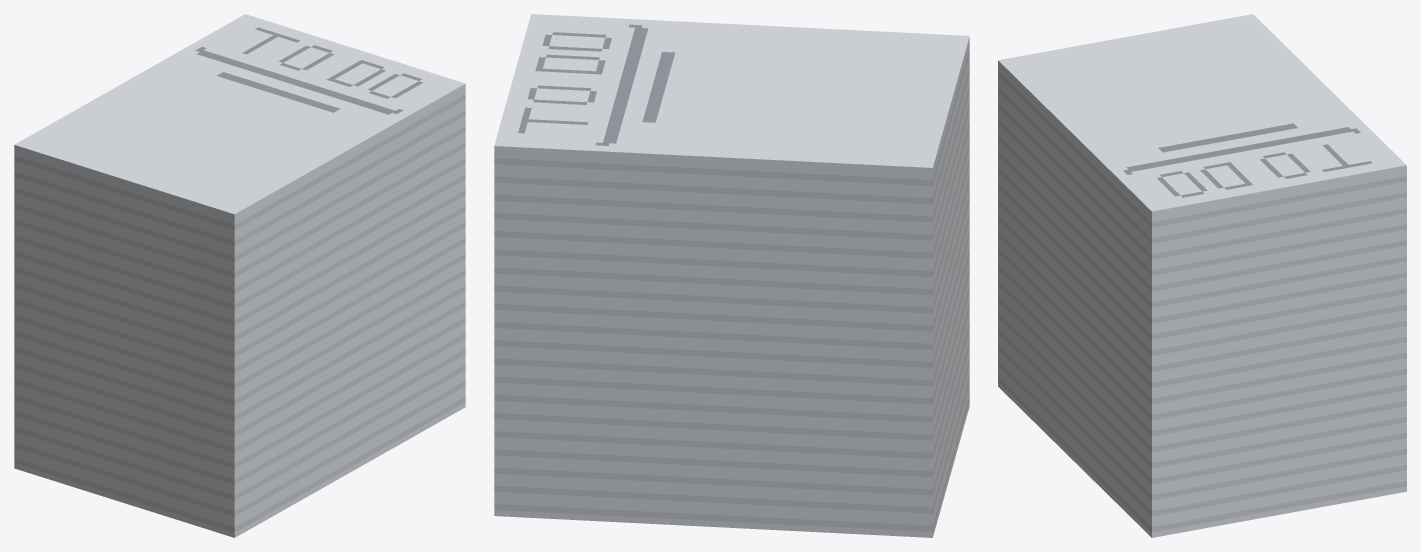
Rendered from morepapers_0_lev1_lev3.glb.
The picture shows the model from 3 angles, left to right: view 1: azimuth 30°, elevation 25°; view 2: azimuth 150°, elevation 25°; view 3: azimuth 270°, elevation 25°; orthographic projection. The views are drawn at different scales.
Visible parts, largest first — view 1: morepapers_0_lev1_lev3; view 2: morepapers_0_lev1_lev3; view 3: morepapers_0_lev1_lev3.
Part boxes in pixels (box(x1,y1,x2,y2)): morepapers_0_lev1_lev3: box(14, 14, 465, 537); morepapers_0_lev1_lev3: box(494, 14, 969, 537); morepapers_0_lev1_lev3: box(998, 14, 1406, 537).
Bounding box in the file's own units: 0.8876 × 0.6838 × 0.776.
Materials: 1 (1 with a texture image).
